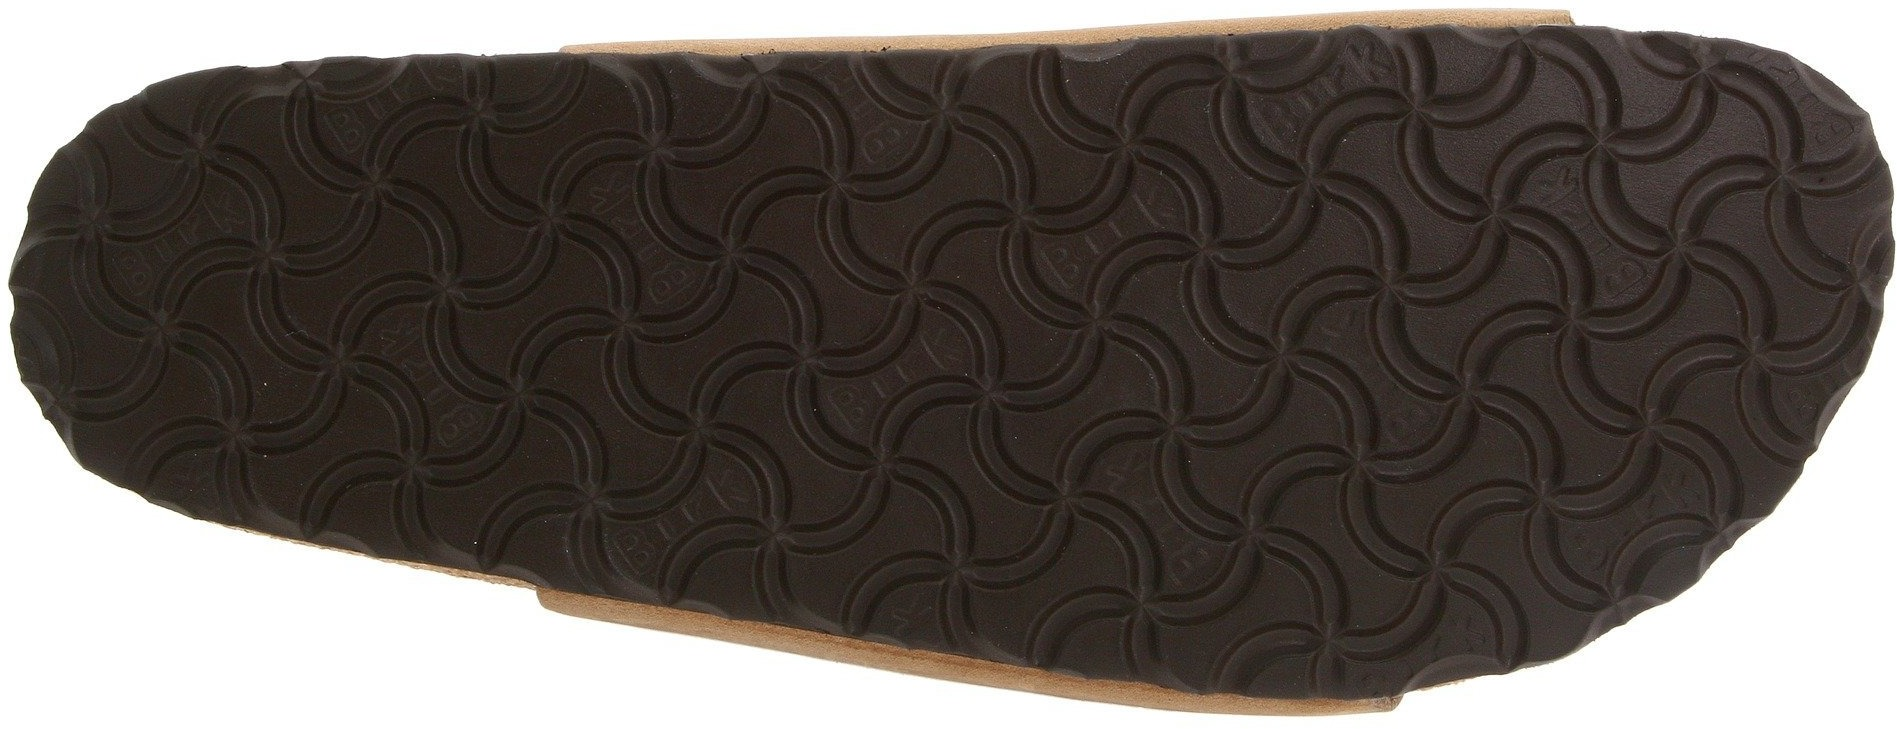bowtie: (1512, 109, 1837, 423), (1182, 60, 1501, 364), (1152, 369, 1478, 659), (807, 357, 1122, 647), (881, 74, 1164, 355), (338, 81, 601, 345), (615, 80, 861, 345), (537, 348, 784, 595), (323, 342, 524, 540), (121, 146, 323, 337), (1490, 424, 1670, 609), (142, 345, 315, 507)
text: (802, 294, 969, 442), (555, 162, 719, 311), (1249, 39, 1417, 164), (1022, 180, 1178, 316), (598, 493, 775, 595), (1520, 141, 1670, 249), (1342, 359, 1468, 461), (1138, 464, 1240, 571)
